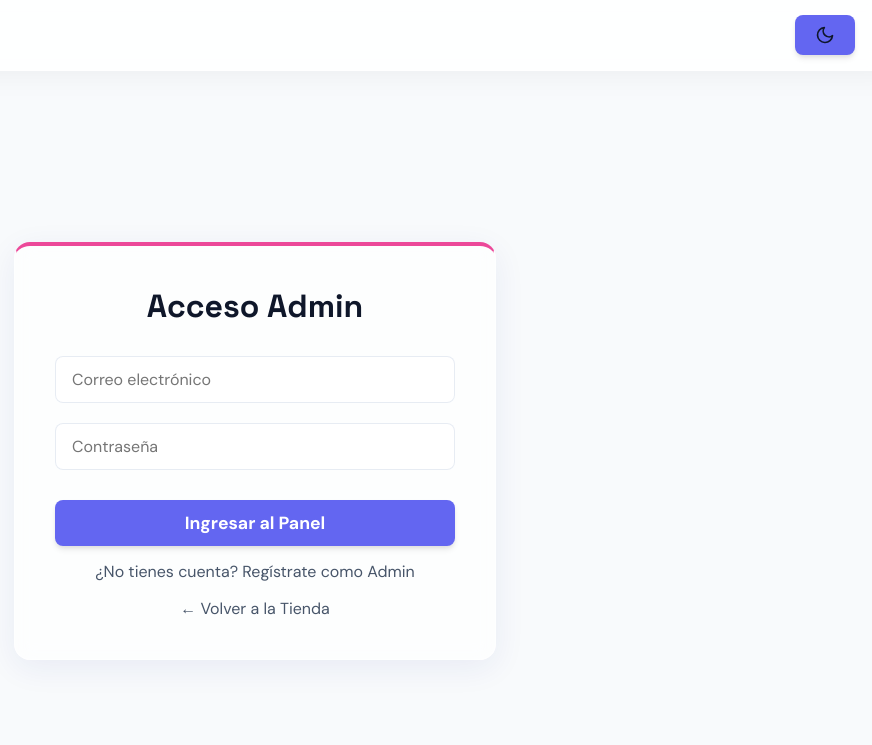
Test case: AdminLogin Component › Registro de Admin › ✓ HAPPY PATH: toggle entre Login y Registro
This screenshot has width=872, height=745.
Expected: the heading "Acceso Admin" is shown, [147,286,363,326]
Click the text "¿No tienes cuenta? Regístrate como Admin" at [255, 572], box [95,561,415,582]
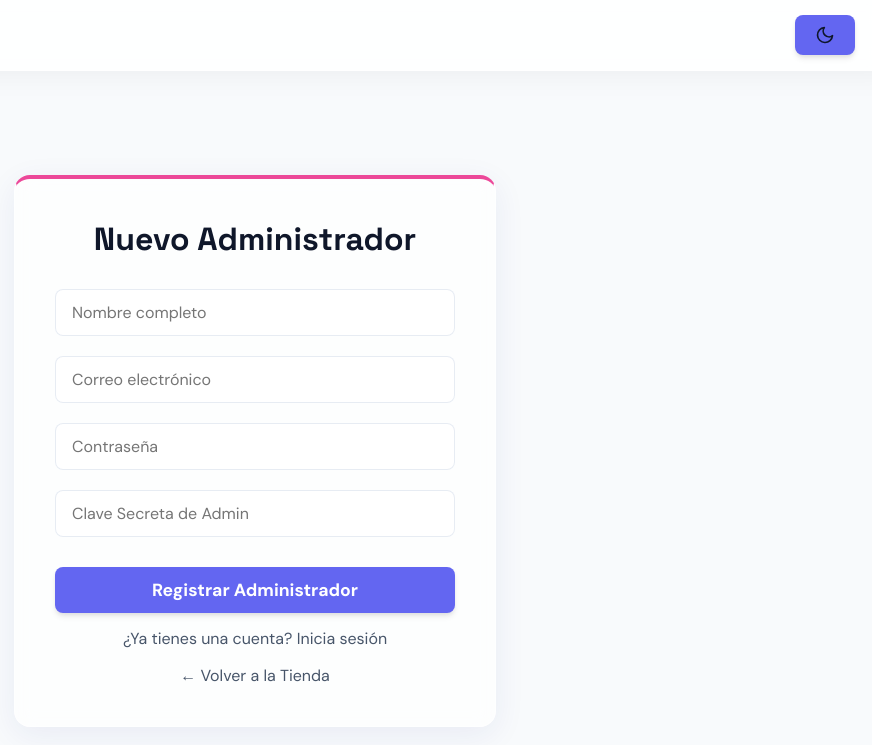
Result: the heading "Nuevo Administrador" is shown at [94,219,416,259]
Click the text "¿Ya tienes una cuenta? Inicia sesión" at [255, 638], box [123,628,387,649]
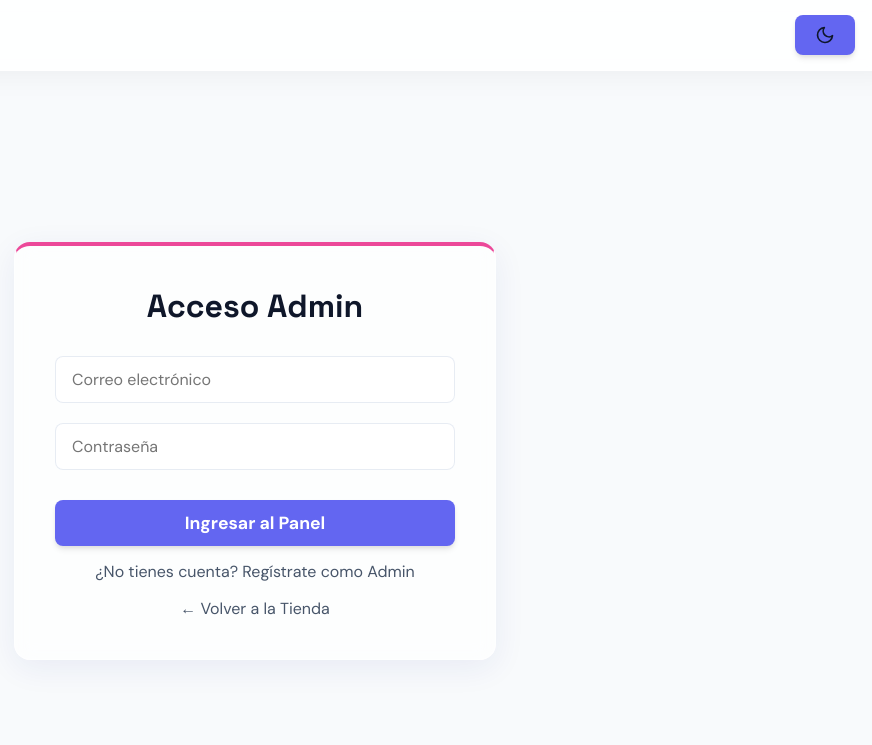
Result: the heading "Acceso Admin" is shown at [147,286,363,326]
